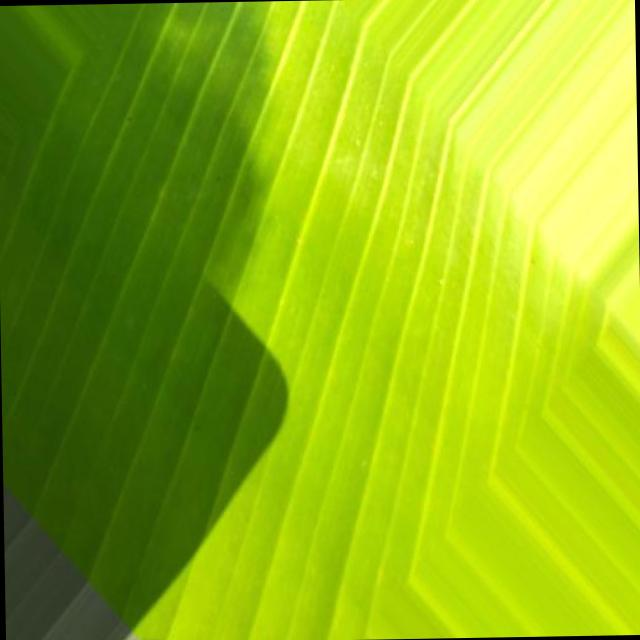Banana_Healthy: (49, 7, 640, 640)
